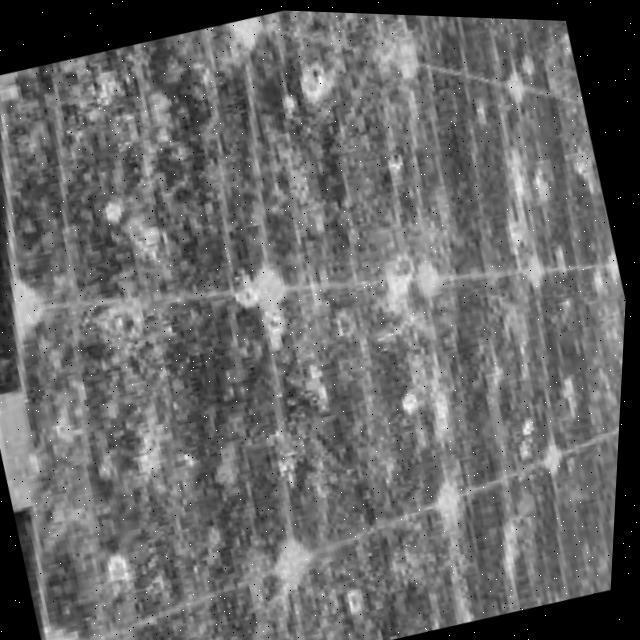Anomaly Solar Panel: (0, 8, 629, 640)
Surface Contaminant: (0, 8, 629, 640)
